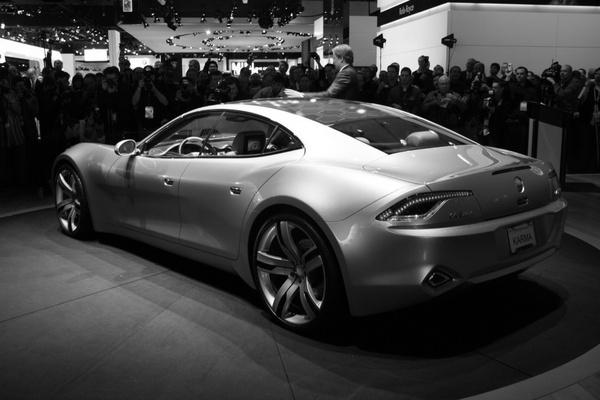car: (51, 101, 570, 332)
